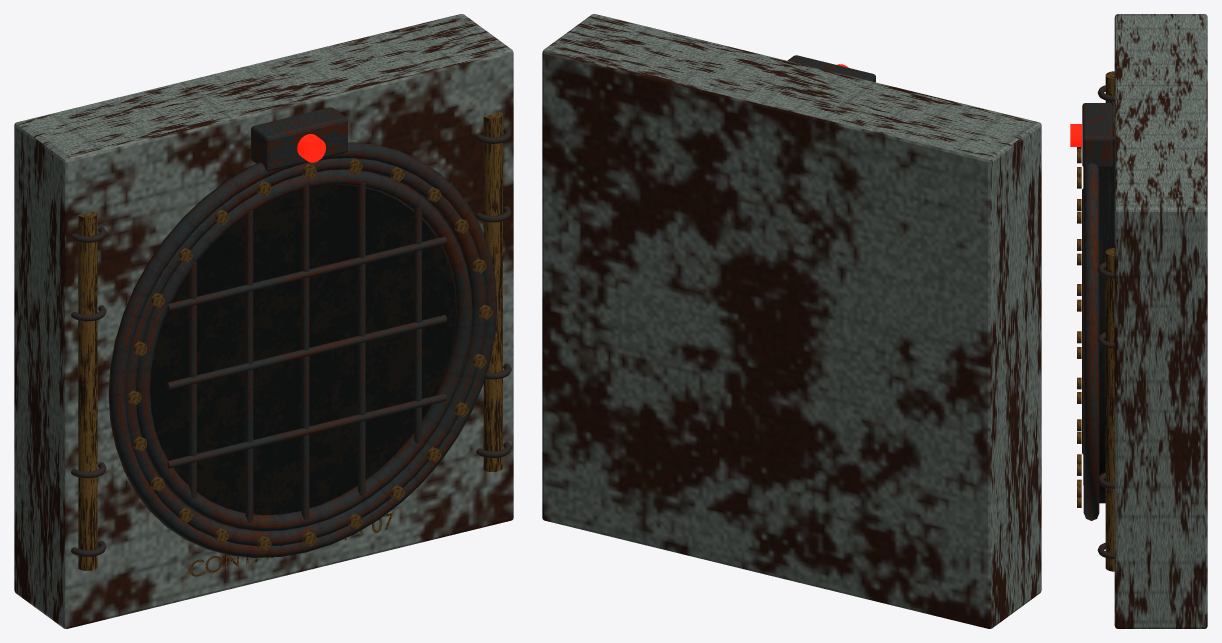
Rendered from abyssal-containment.glb.
3 views of the same model, side by side, from view 1: azimuth 30°, elevation 25°; view 2: azimuth 150°, elevation 25°; view 3: azimuth 270°, elevation 25° (orthographic). The views are drawn at different scales.
Visible parts, largest first — view 1: L03_abyssal-containment_L03_enamel-ivory, L03_abyssal-containment_L03_oxidized-iron, L03_abyssal-containment_L03_rubber-dark, L03_abyssal-containment_L03_aged-brass; view 2: L03_abyssal-containment_L03_enamel-ivory, L03_abyssal-containment_L03_oxidized-iron; view 3: L03_abyssal-containment_L03_enamel-ivory, L03_abyssal-containment_L03_oxidized-iron, L03_abyssal-containment_L03_aged-brass, L03_abyssal-containment_L03_rubber-dark, L03_abyssal-containment_L03_warning-red.
Part boxes in pixels (<box>): L03_abyssal-containment_L03_enamel-ivory: <box>14,14,513,628</box>; L03_abyssal-containment_L03_oxidized-iron: <box>71,107,511,557</box>; L03_abyssal-containment_L03_rubber-dark: <box>150,185,455,515</box>; L03_abyssal-containment_L03_aged-brass: <box>78,112,502,576</box>; L03_abyssal-containment_L03_enamel-ivory: <box>542,14,1041,628</box>; L03_abyssal-containment_L03_oxidized-iron: <box>787,55,875,82</box>; L03_abyssal-containment_L03_enamel-ivory: <box>1114,14,1207,628</box>; L03_abyssal-containment_L03_oxidized-iron: <box>1082,85,1114,558</box>; L03_abyssal-containment_L03_aged-brass: <box>1077,71,1114,571</box>; L03_abyssal-containment_L03_rubber-dark: <box>1099,139,1114,503</box>; L03_abyssal-containment_L03_warning-red: <box>1070,124,1081,146</box>.
Bounding box in the file's own units: 6 × 6 × 1.78.
5 materials, 4 textured.
